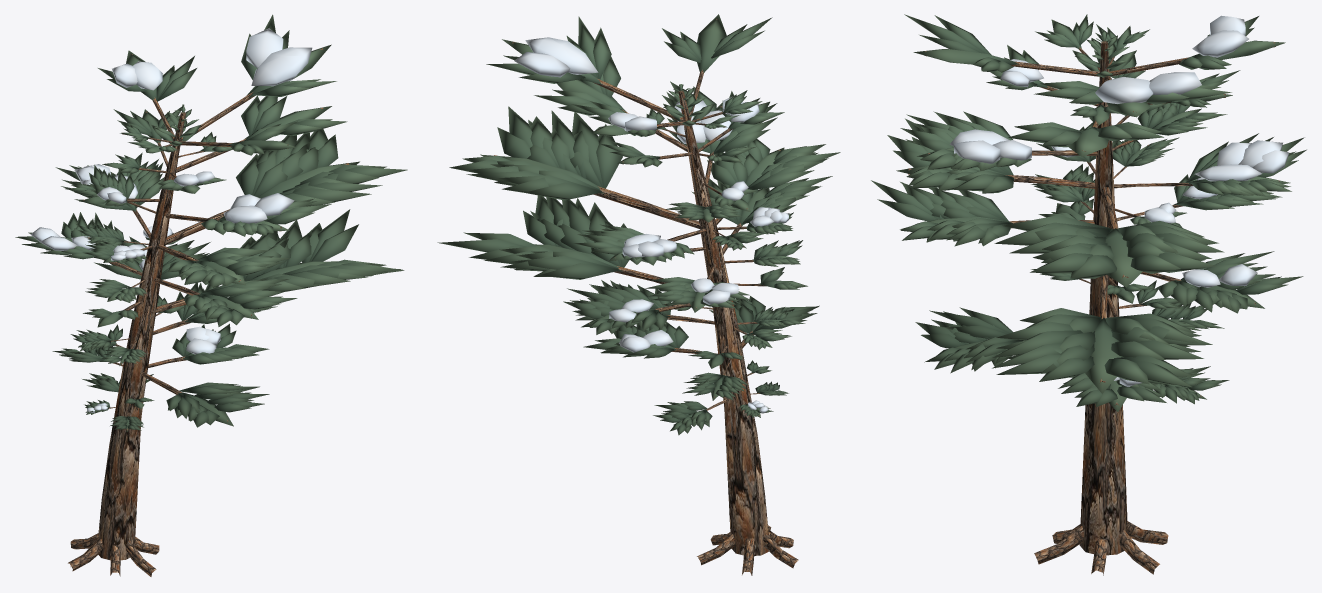
Rendered from tree11.glb.
The picture shows the model from 3 angles, left to right: view 1: azimuth 30°, elevation 25°; view 2: azimuth 150°, elevation 25°; view 3: azimuth 270°, elevation 25°; orthographic projection. The views are drawn at different scales.
Parts seen in each view (by area): view 1: Alpine11_1, Alpine11_0 (×2), Alpine11_2 (×2); view 2: Alpine11_1 (×2), Alpine11_0 (×2), Alpine11_2 (×2); view 3: Alpine11_1 (×2), Alpine11_0 (×2), Alpine11_2 (×2).
Part boxes in pixels (box(x1,y1,x2,y2)): Alpine11_1: box(15, 14, 407, 432); Alpine11_0 (×2): box(68, 48, 349, 576); Alpine11_2 (×2): box(30, 28, 312, 412); Alpine11_1 (×2): box(437, 14, 840, 435); Alpine11_0 (×2): box(494, 19, 798, 575); Alpine11_2 (×2): box(514, 37, 788, 412); Alpine11_1 (×2): box(871, 14, 1306, 411); Alpine11_0 (×2): box(908, 21, 1279, 575); Alpine11_2 (×2): box(949, 15, 1289, 386).
Bounding box in the file's own units: 9.39 × 13.11 × 8.72.
6 materials, 2 textured.
